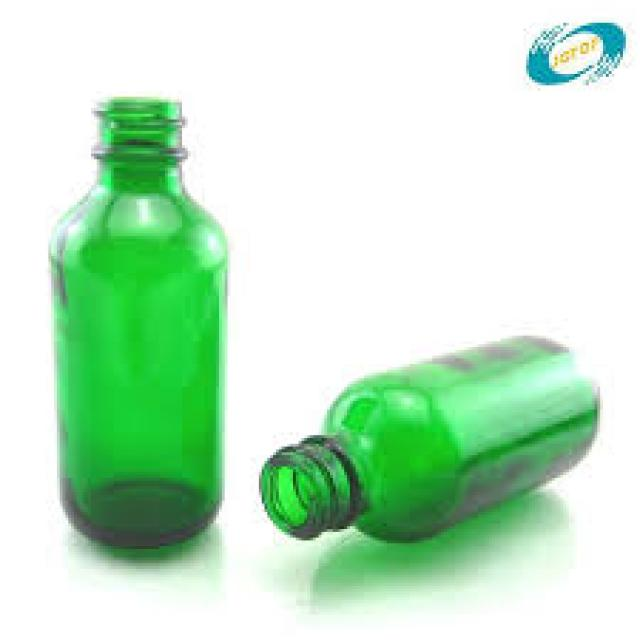glass: (48, 94, 222, 546), (259, 333, 600, 540)
